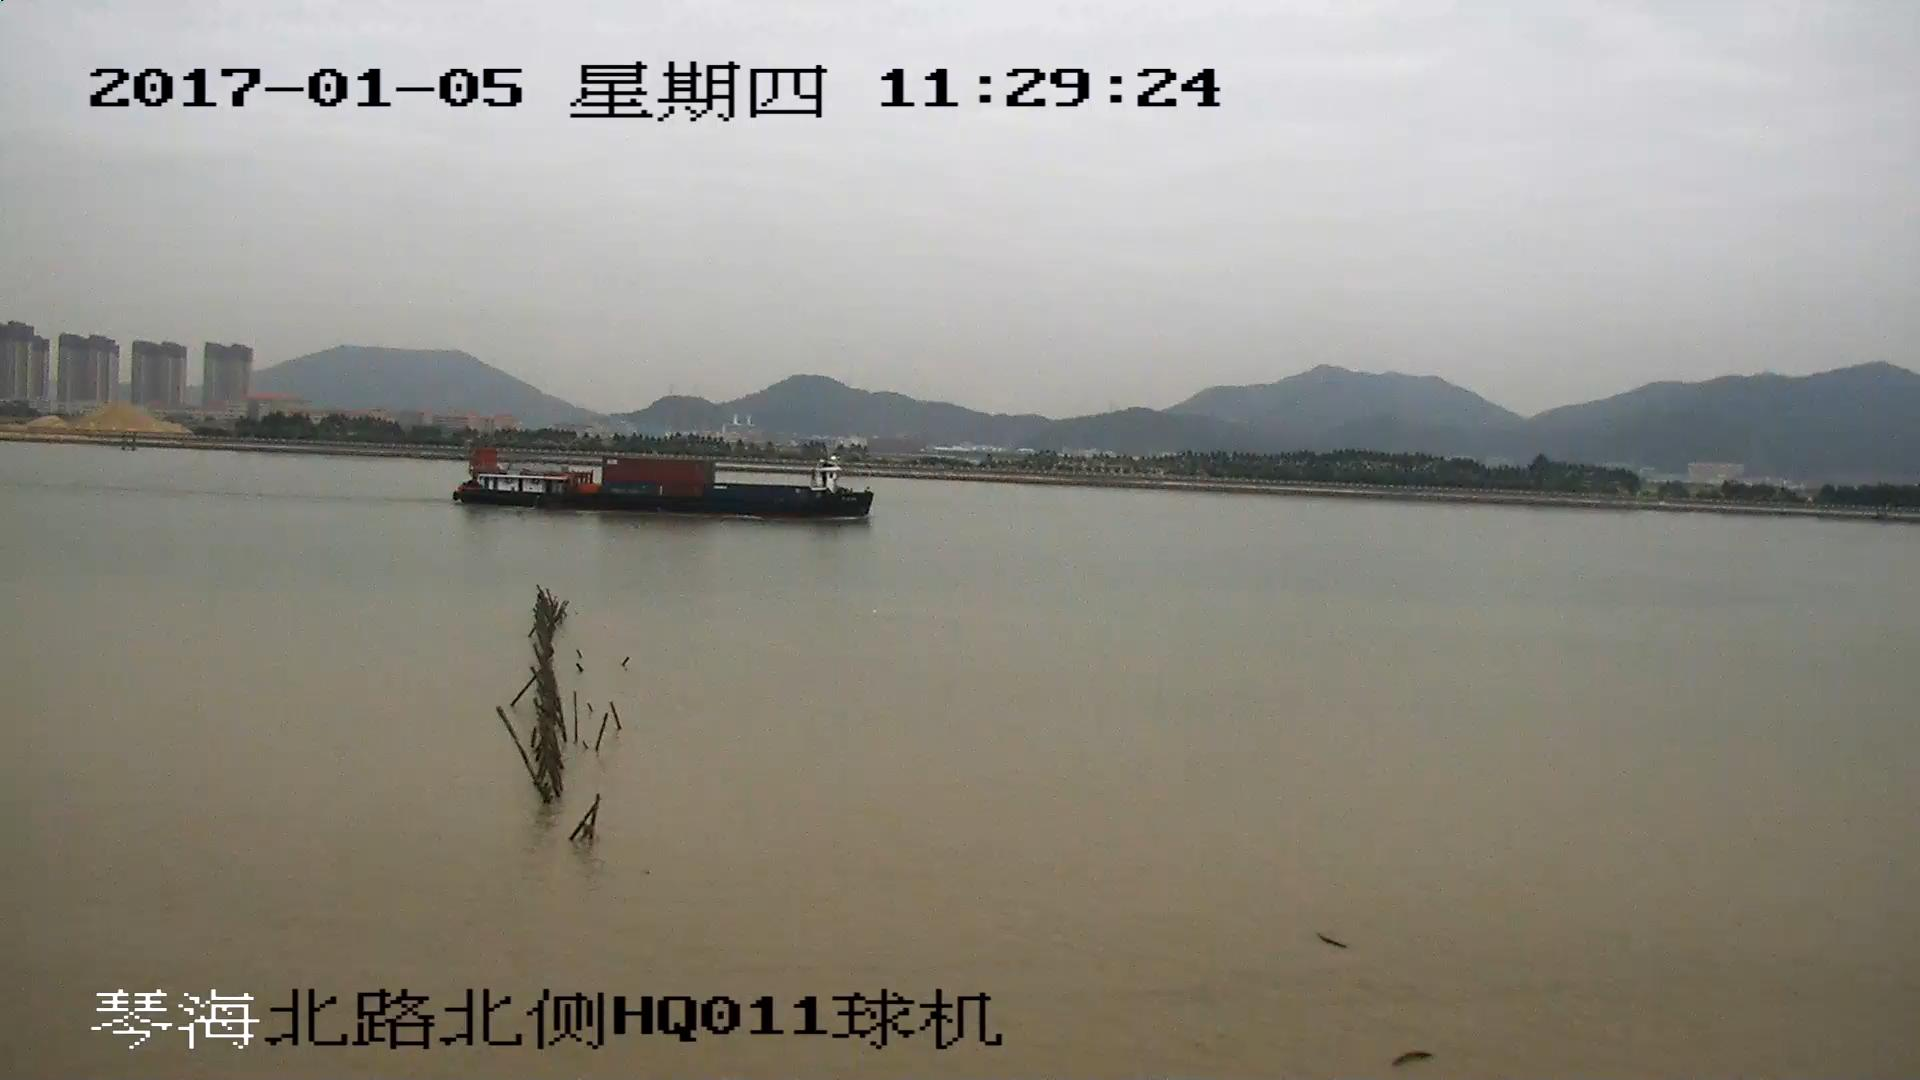container ship: (454, 445, 872, 526)
